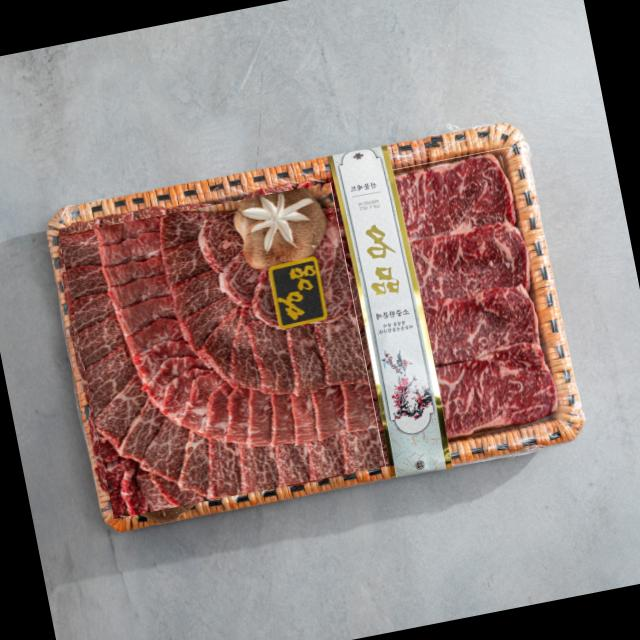beef: (59, 182, 386, 518), (392, 146, 562, 440)
